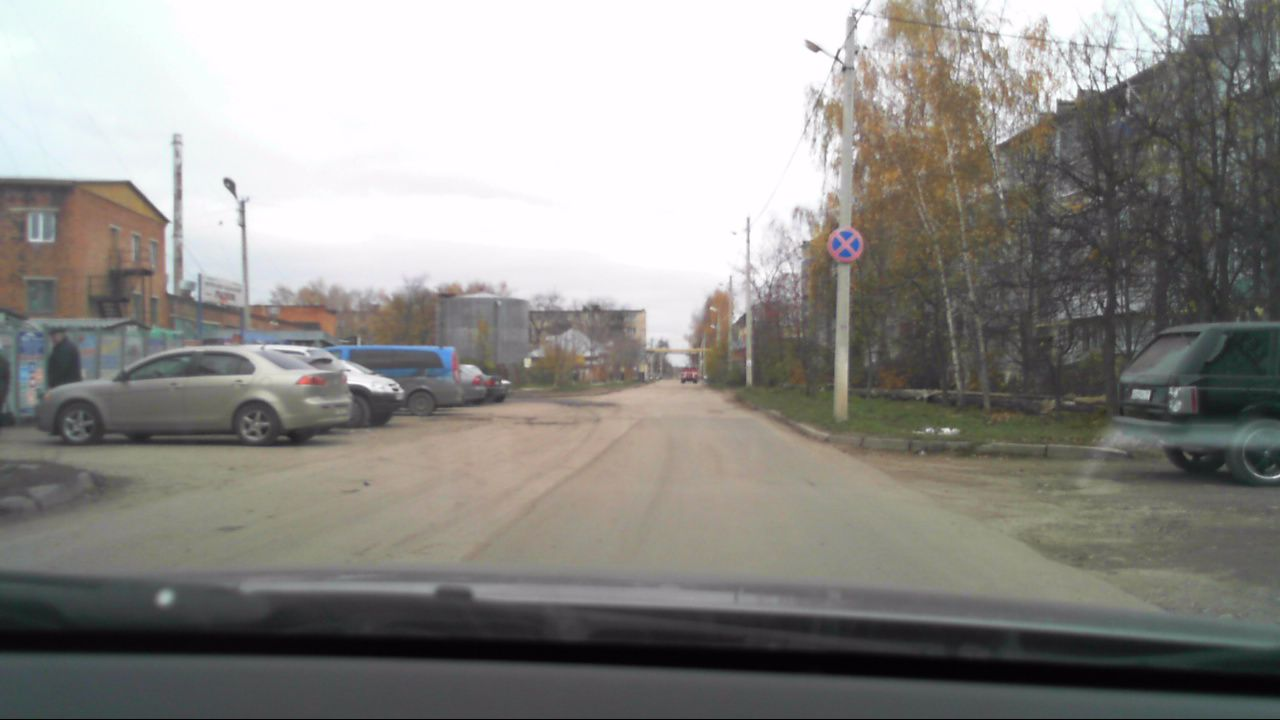No Parking: (826, 227, 863, 263)
